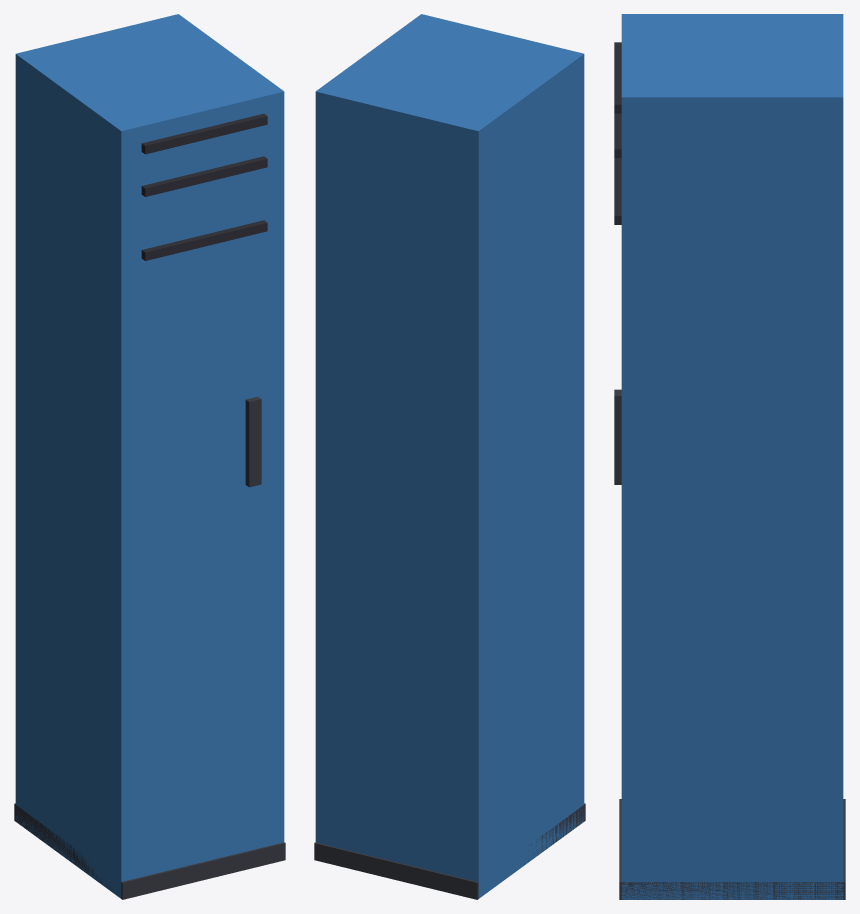
File: locker.fbx
3 views of the same model, side by side, from view 1: azimuth 30°, elevation 25°; view 2: azimuth 150°, elevation 25°; view 3: azimuth 270°, elevation 25° (orthographic). The views are drawn at different scales.
Visible parts, largest first — view 1: locker; view 2: locker; view 3: locker.
Part boxes in pixels (box(x1,y1,x2,y2)): locker: box(14, 14, 285, 899); locker: box(314, 14, 585, 899); locker: box(614, 14, 845, 899).
Bounding box in the file's own units: 0.4 × 1.8 × 0.47.
